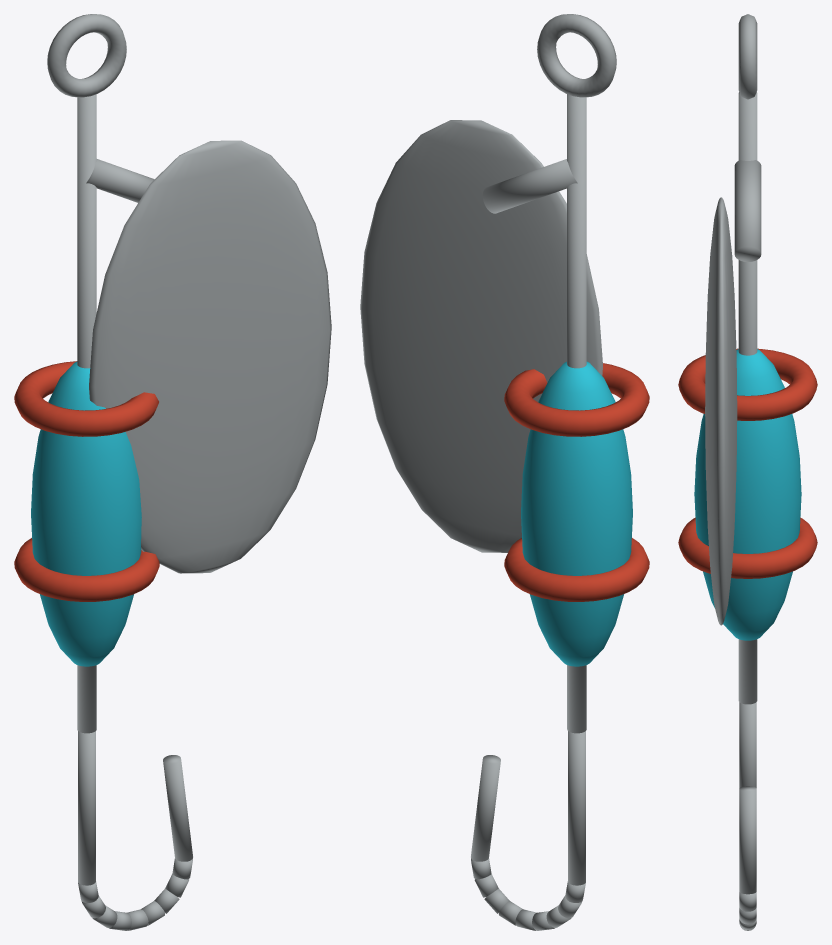
Rendered from inline_spinner.glb.
The picture shows the model from 3 angles, left to right: view 1: azimuth 30°, elevation 25°; view 2: azimuth 150°, elevation 25°; view 3: azimuth 270°, elevation 25°; orthographic projection. The views are drawn at different scales.
Visible parts, largest first — view 1: Tie eye.004; view 2: Tie eye.004; view 3: Tie eye.004.
Boxes of the visible parts, <box> form: Tie eye.004: <box>14,14,331,930</box>; Tie eye.004: <box>360,14,649,930</box>; Tie eye.004: <box>678,14,817,930</box>.
Size of the model in its own units: 0.0242 by 0.0728 by 0.0104.
